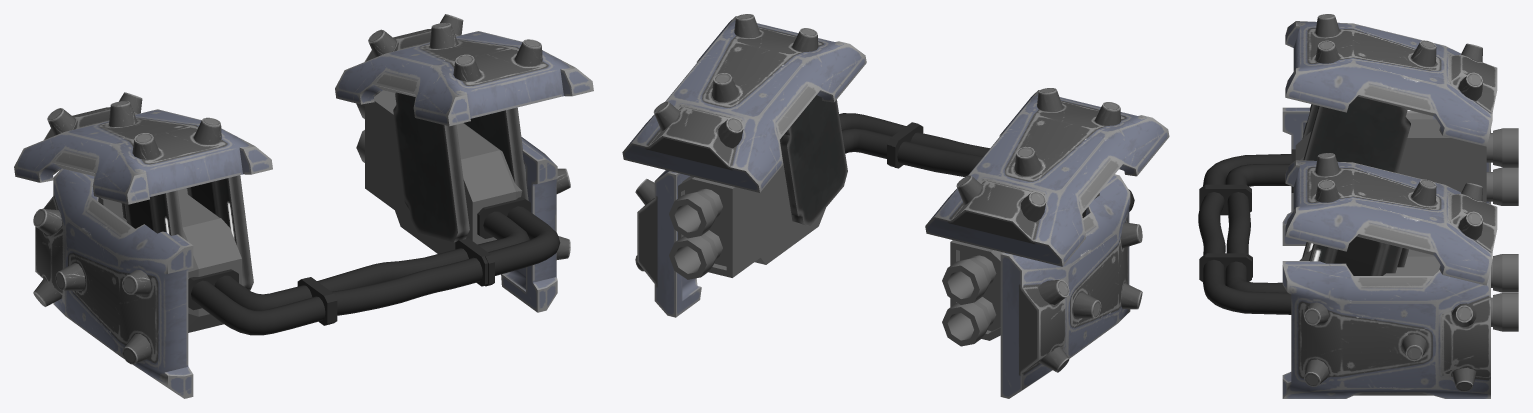
The model's file is Agent_Handheld_Storm5.fbx.
The picture shows the model from 3 angles, left to right: view 1: azimuth 30°, elevation 25°; view 2: azimuth 150°, elevation 25°; view 3: azimuth 270°, elevation 25°; orthographic projection. The views are drawn at different scales.
Visible parts, largest first — view 1: Pfb_SodaShield, Pfb_SodaShield_2, Pfb_SodaShield_3, GunBarrel_1, Pfb_Soda_RoadBlockPart1_3, Pfb_Soda_Pipe_9, Pfb_Soda_Pipe_8, Pfb_SodaShield_1, Pfb_Soda_Pipe_7, Pfb_Soda_RoadBlockPart1_2, Pfb_Soda_RoadBlockPart1, Pfb_Soda_RoadBlockPart1_1; view 2: Pfb_SodaShield_3, Pfb_SodaShield_2, Pfb_SodaShield, GunBarrel_1, Pfb_Soda_RoadBlockPart1_3, Pfb_SodaShield_1, Pfb_Soda_Pipe_9, Pfb_Soda_Pipe_7; view 3: Pfb_SodaShield_1, Pfb_SodaShield_3, Pfb_SodaShield_2, GunBarrel_1, Pfb_Soda_RoadBlockPart1_2, Pfb_Soda_Pipe_7, Pfb_Soda_Pipe_9, Pfb_Soda_Pipe_8, Pfb_Soda_RoadBlockPart1, Pfb_SodaShield.
Part boxes in pixels (<box>): Pfb_SodaShield: <box>33,168,193,398</box>; Pfb_SodaShield_2: <box>14,92,272,204</box>; Pfb_SodaShield_3: <box>335,14,593,126</box>; GunBarrel_1: <box>98,90,522,332</box>; Pfb_Soda_RoadBlockPart1_3: <box>393,92,469,242</box>; Pfb_Soda_Pipe_9: <box>308,239,487,323</box>; Pfb_Soda_Pipe_8: <box>188,269,333,335</box>; Pfb_SodaShield_1: <box>501,137,570,312</box>; Pfb_Soda_Pipe_7: <box>463,197,560,286</box>; Pfb_Soda_RoadBlockPart1_2: <box>186,175,253,290</box>; Pfb_Soda_RoadBlockPart1: <box>464,107,528,200</box>; Pfb_Soda_RoadBlockPart1_1: <box>121,190,188,278</box>; Pfb_SodaShield_3: <box>622,14,866,192</box>; Pfb_SodaShield_2: <box>925,88,1169,266</box>; Pfb_SodaShield: <box>1000,174,1142,398</box>; GunBarrel_1: <box>669,140,1002,346</box>; Pfb_Soda_RoadBlockPart1_3: <box>780,95,847,225</box>; Pfb_SodaShield_1: <box>635,170,701,317</box>; Pfb_Soda_Pipe_9: <box>892,124,989,176</box>; Pfb_Soda_Pipe_7: <box>839,113,918,166</box>; Pfb_SodaShield_1: <box>1282,261,1490,398</box>; Pfb_SodaShield_3: <box>1285,153,1497,285</box>; Pfb_SodaShield_2: <box>1285,14,1497,146</box>; GunBarrel_1: <box>1295,119,1518,331</box>; Pfb_Soda_RoadBlockPart1_2: <box>1303,96,1410,172</box>; Pfb_Soda_Pipe_7: <box>1199,254,1291,314</box>; Pfb_Soda_Pipe_9: <box>1198,187,1252,277</box>; Pfb_Soda_Pipe_8: <box>1199,149,1295,192</box>; Pfb_Soda_RoadBlockPart1: <box>1308,236,1408,275</box>; Pfb_SodaShield: <box>1282,107,1490,245</box>.
Size of the model in its own units: 1.29 by 0.6559 by 0.8649.
